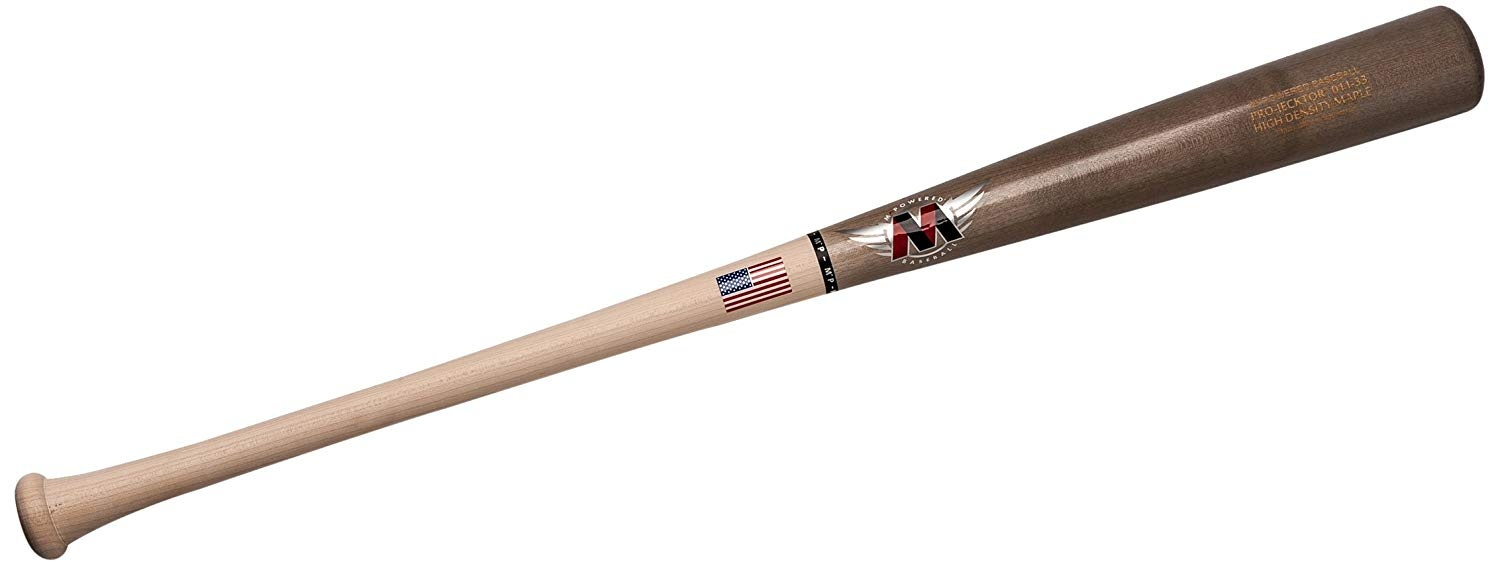bita: (20, 12, 1484, 555)
